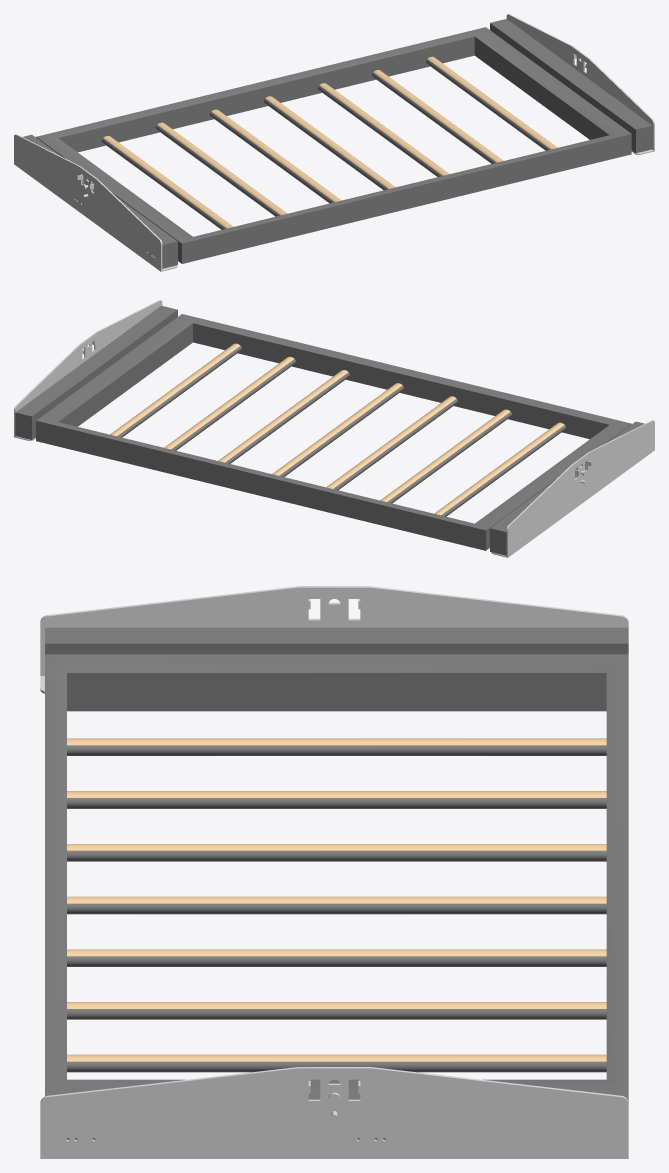
File: JP-TROUSER-RACK.glb
3 renders of one model, top to bottom at view 1: azimuth 30°, elevation 25°; view 2: azimuth 150°, elevation 25°; view 3: azimuth 270°, elevation 25°, orthographic. The views are drawn at different scales.
Visible parts, largest first — view 1: Geom3D (×2), Geom3D_组件#5_裤架 copy 001; view 2: Geom3D (×2), Geom3D_组件#5_裤架 copy 001; view 3: Geom3D (×2), Geom3D_组件#5_裤架 copy 001.
Part boxes in pixels (x1,y1,x2,y2): Geom3D (×2): [23, 19, 652, 268]; Geom3D_组件#5_裤架 copy 001: [14, 14, 654, 271]; Geom3D (×2): [15, 305, 644, 555]; Geom3D_组件#5_裤架 copy 001: [14, 300, 654, 557]; Geom3D (×2): [45, 627, 628, 1139]; Geom3D_组件#5_裤架 copy 001: [40, 586, 628, 1158].
Size of the model in its own units: 0.985 by 0.085 by 0.5.
